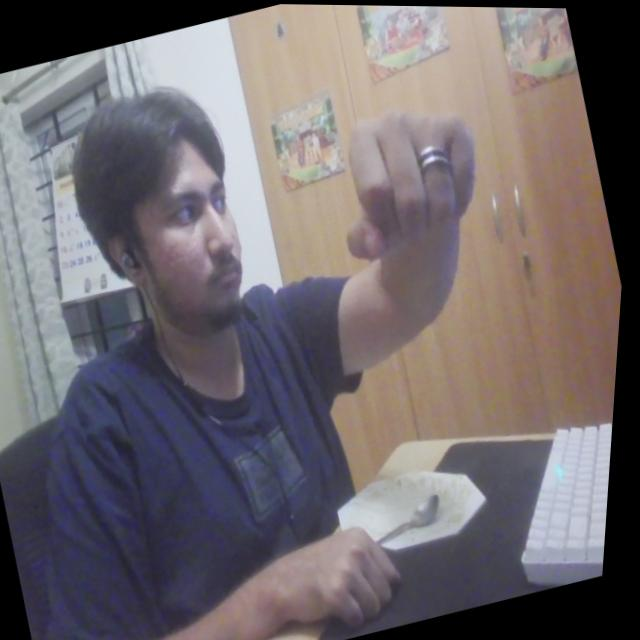yes: (307, 73, 520, 291)
